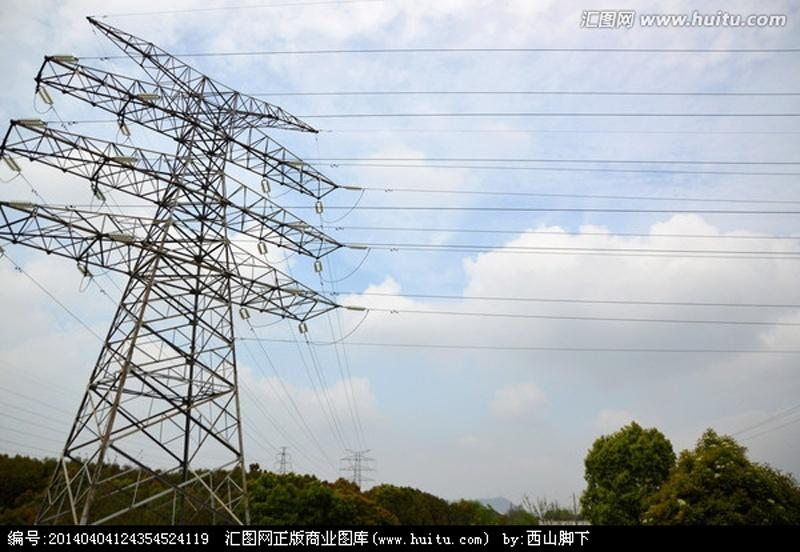power_tower: (13, 38, 323, 527)
